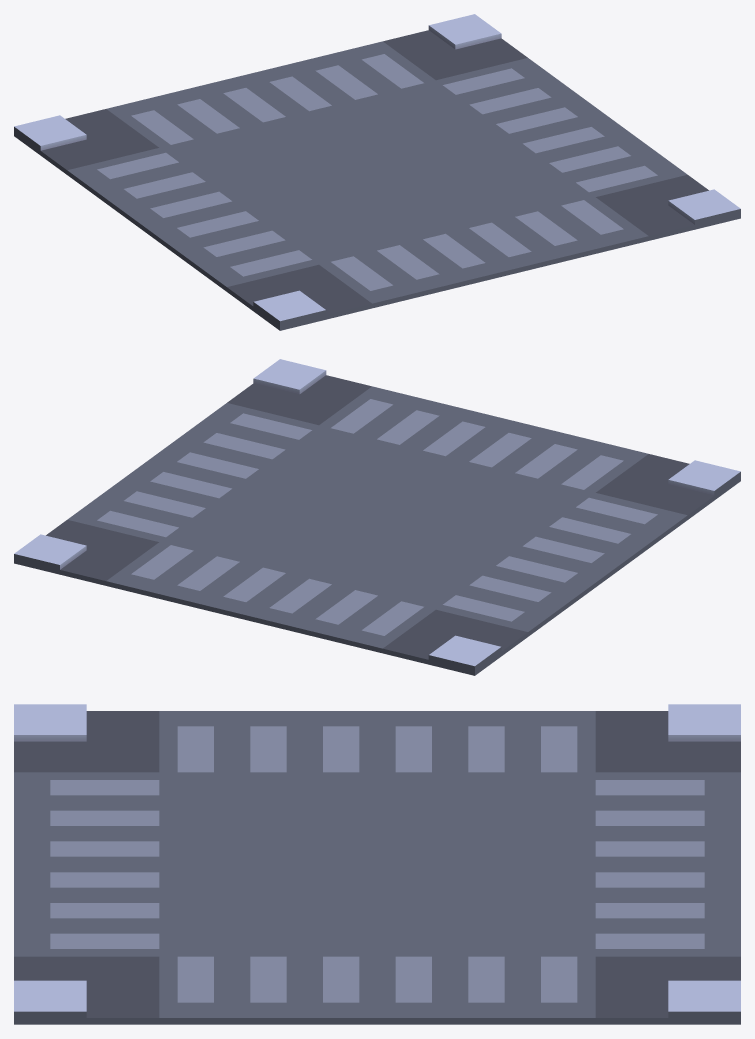
File: road-crossroad-path.glb
The picture shows the model from 3 angles, top to bottom: view 1: azimuth 30°, elevation 25°; view 2: azimuth 150°, elevation 25°; view 3: azimuth 270°, elevation 25°; orthographic projection. The views are drawn at different scales.
Parts seen in each view (by area): view 1: road-crossroad-path; view 2: road-crossroad-path; view 3: road-crossroad-path.
Boxes of the visible parts, <box> form: road-crossroad-path: <box>14,14,740,330</box>; road-crossroad-path: <box>14,359,740,675</box>; road-crossroad-path: <box>14,704,740,1024</box>.
Size of the model in its own units: 1 by 0.02 by 1.
1 material, 1 textured.
